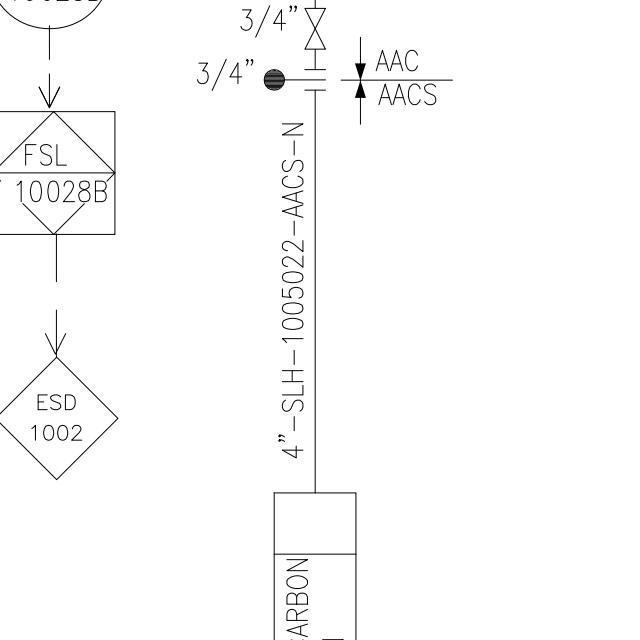GV: (300, 5, 326, 55)
